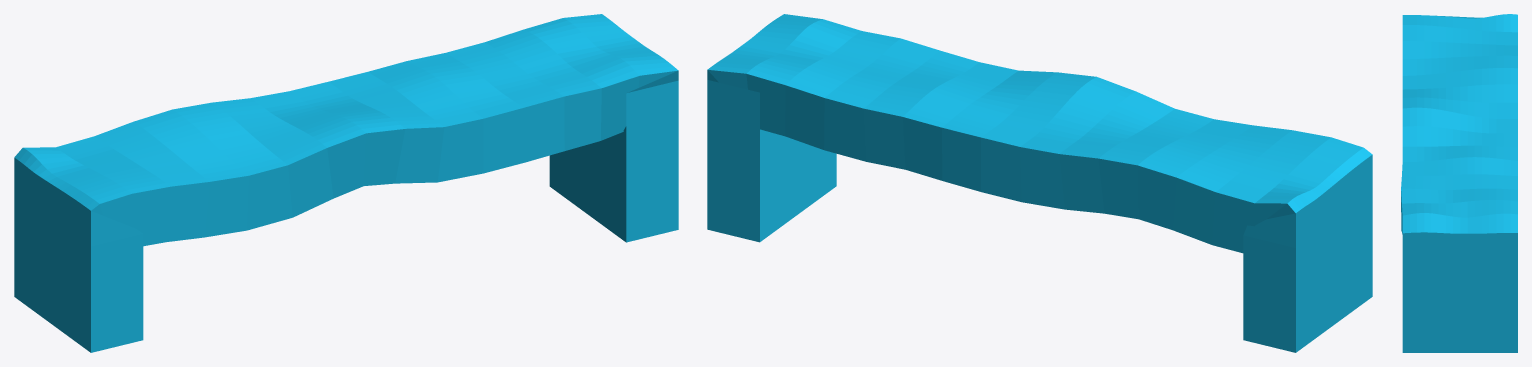
3 renders of one model, left to right at view 1: azimuth 30°, elevation 25°; view 2: azimuth 150°, elevation 25°; view 3: azimuth 270°, elevation 25°, orthographic. The views are drawn at different scales.
Visible parts, largest first — view 1: Plane; view 2: Plane; view 3: Plane.
Part boxes in pixels (x1,y1,x2,y2): Plane: (14,14,678,352); Plane: (707,14,1372,352); Plane: (1401,14,1517,352).
Bounding box in the file's own units: 50.89 × 14.39 × 11.67.
